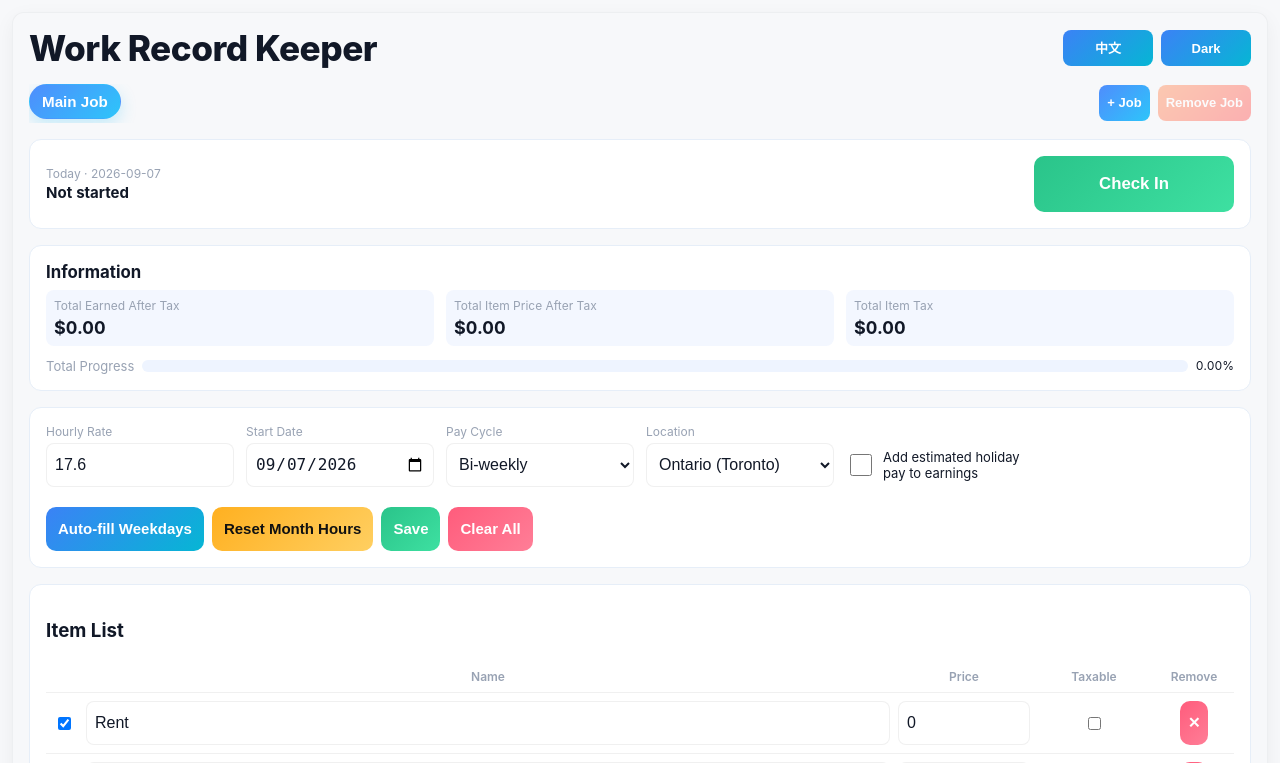
Test: add and remove job
scoped to the job tabs: the all-jobs summary lists job names too
Click the button "+ Job". click: (1125, 103)
box: left=1099, top=85, right=1150, bottom=121
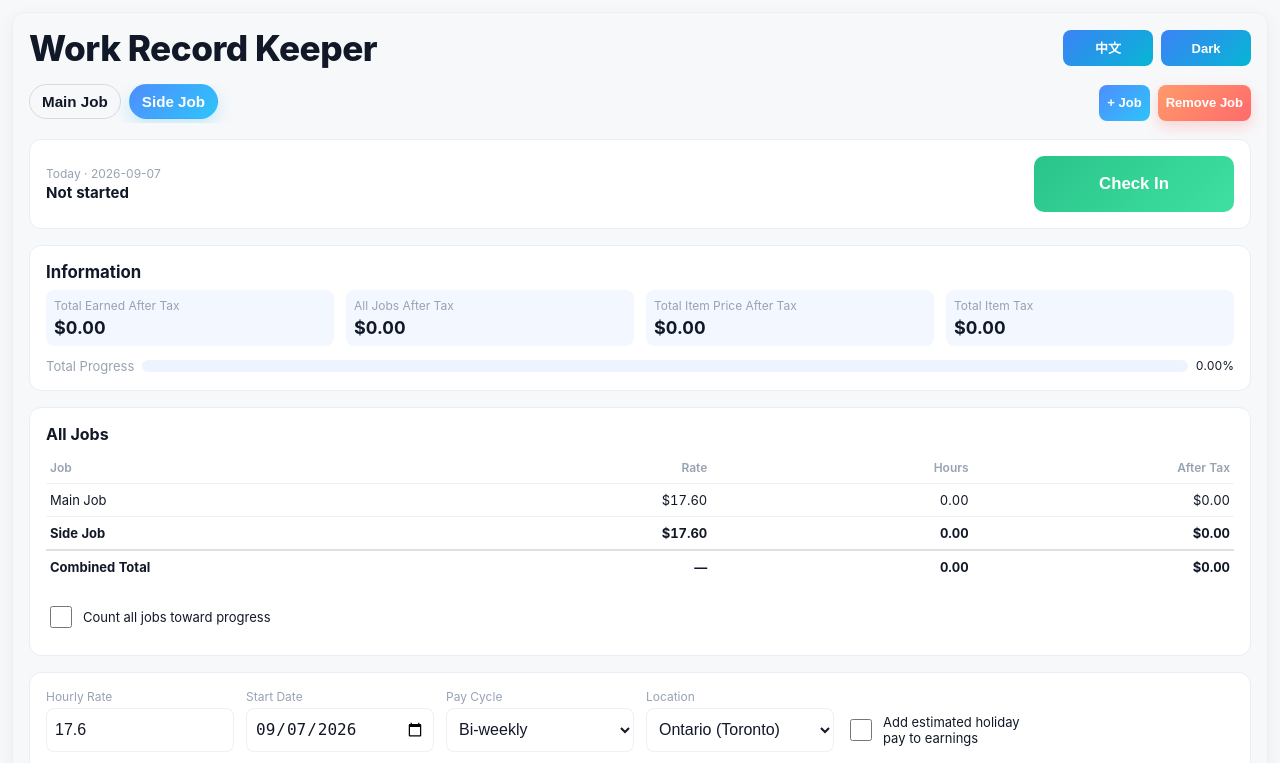
Check: the button "Side Job" is shown, box left=129, top=84, right=218, bottom=119
Click the button "Remove Job". click: (1204, 103)
box: left=1158, top=85, right=1251, bottom=121
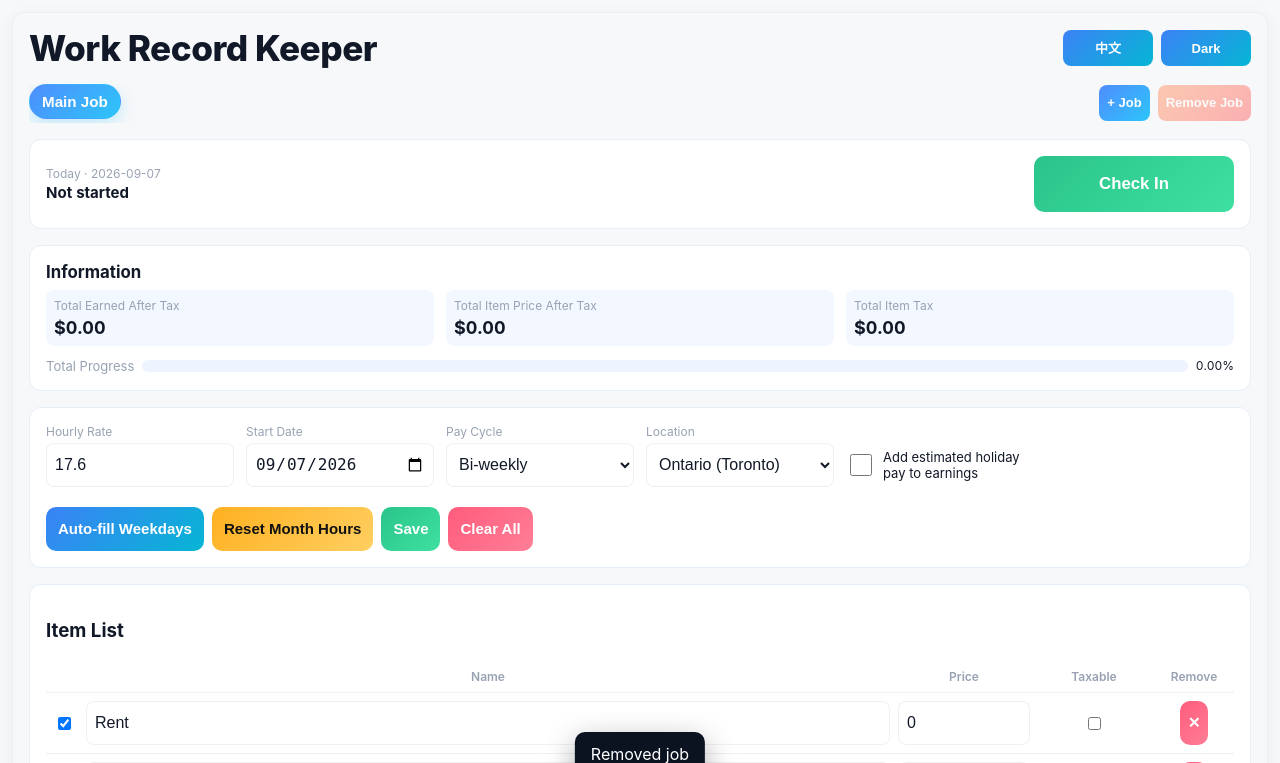
Check: the button "Main Job" is shown, box left=29, top=84, right=121, bottom=119
Check: the button "Side Job" is gone
